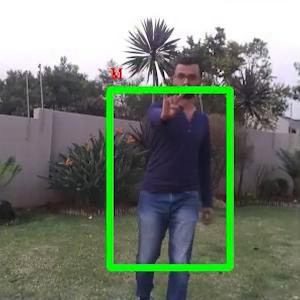takeoff-hand: (146, 75, 190, 126)
